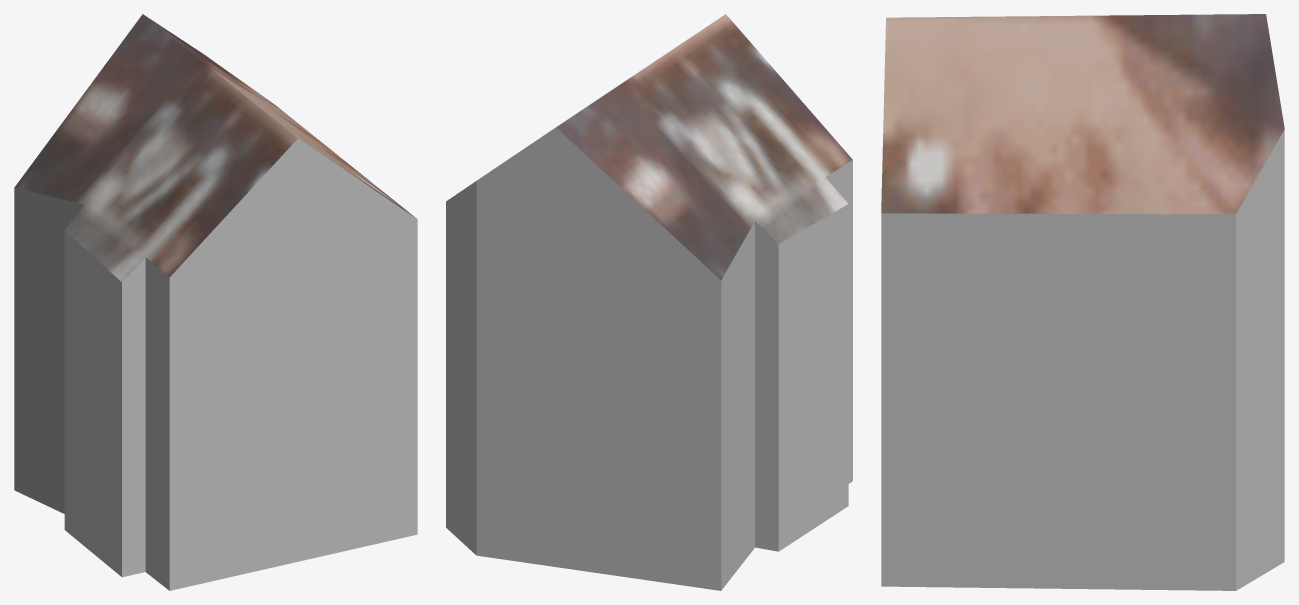
Rendered from DEBW_0010007Tx3k.gltf.
The picture shows the model from 3 angles, left to right: view 1: azimuth 30°, elevation 25°; view 2: azimuth 150°, elevation 25°; view 3: azimuth 270°, elevation 25°; orthographic projection. The views are drawn at different scales.
Visible parts, largest first — view 1: Z_UP; view 2: Z_UP; view 3: Z_UP.
Part boxes in pixels (box(x1,y1,x2,y2)): Z_UP: box(14, 14, 417, 590); Z_UP: box(446, 14, 852, 590); Z_UP: box(881, 14, 1284, 590).
Size of the model in its own units: 10.42 by 15.65 by 11.27.
2 materials, 1 textured.
